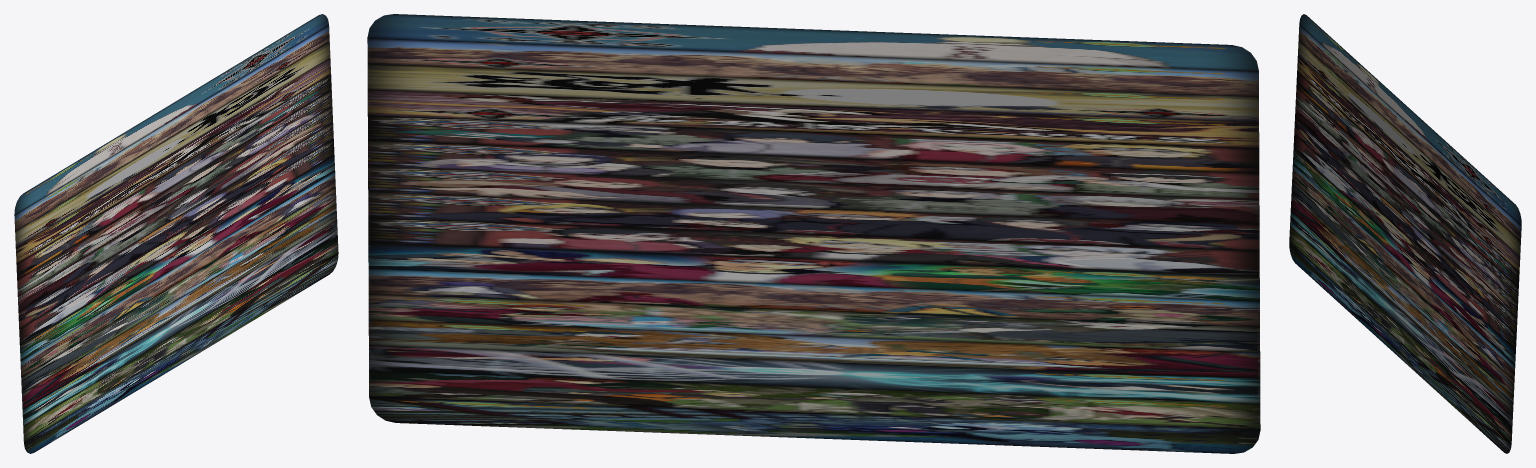
File: SM_ENV_LKNVLD_VideoScreen_03.FBX
3 views of the same model, side by side, from view 1: azimuth 30°, elevation 25°; view 2: azimuth 150°, elevation 25°; view 3: azimuth 270°, elevation 25° (orthographic). The views are drawn at different scales.
Parts seen in each view (by area): view 1: SM_ENV_LKNVLD_VideoScreen_03; view 2: SM_ENV_LKNVLD_VideoScreen_03; view 3: SM_ENV_LKNVLD_VideoScreen_03.
Boxes of the visible parts, x1,y1,x2,y2 form: SM_ENV_LKNVLD_VideoScreen_03: [14, 14, 338, 453]; SM_ENV_LKNVLD_VideoScreen_03: [367, 14, 1260, 453]; SM_ENV_LKNVLD_VideoScreen_03: [1289, 14, 1521, 453].
Bounding box in the file's own units: 646 × 364 × 312.
